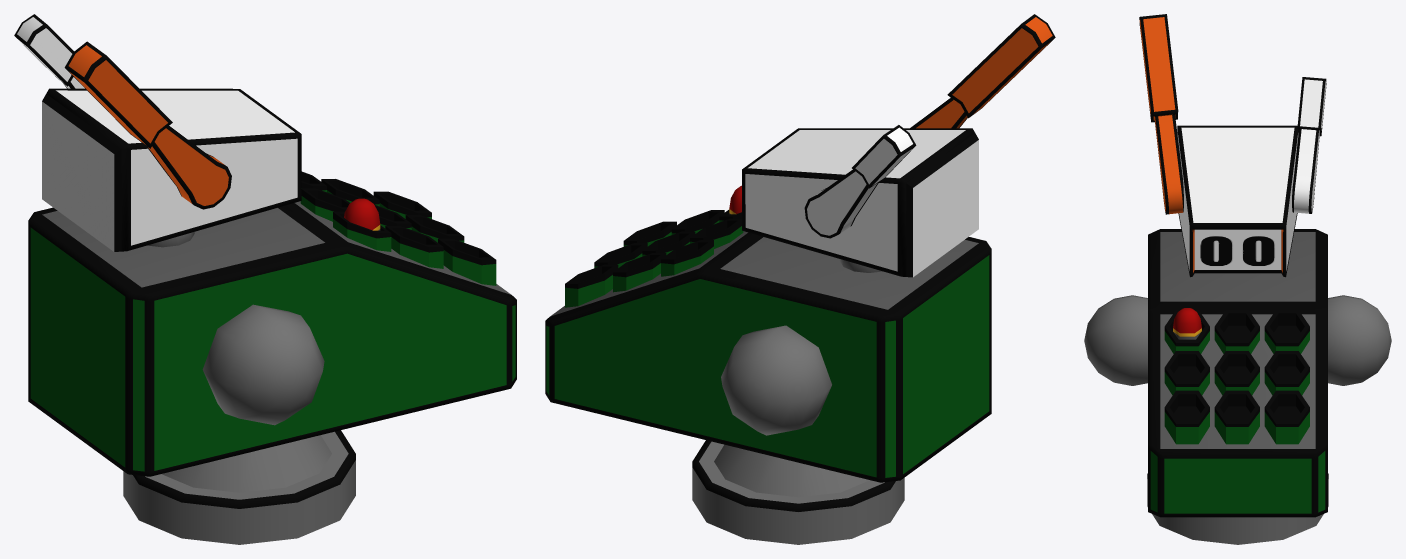
The model's file is PlayerTorsoSAM.fbx.
3 views of the same model, side by side, from view 1: azimuth 30°, elevation 25°; view 2: azimuth 150°, elevation 25°; view 3: azimuth 270°, elevation 25° (orthographic). The views are drawn at different scales.
Visible parts, largest first — view 1: Mech Torso SAM, SAM misile; view 2: Mech Torso SAM; view 3: Mech Torso SAM, SAM misile.
Boxes of the visible parts, bbox=[...] form: Mech Torso SAM: bbox=[14, 14, 516, 544]; SAM misile: bbox=[344, 198, 380, 230]; Mech Torso SAM: bbox=[545, 14, 1055, 544]; Mech Torso SAM: bbox=[1084, 14, 1391, 544]; SAM misile: bbox=[1173, 308, 1201, 339].
Bounding box in the file's own units: 1.35 × 2.03 × 1.77.
